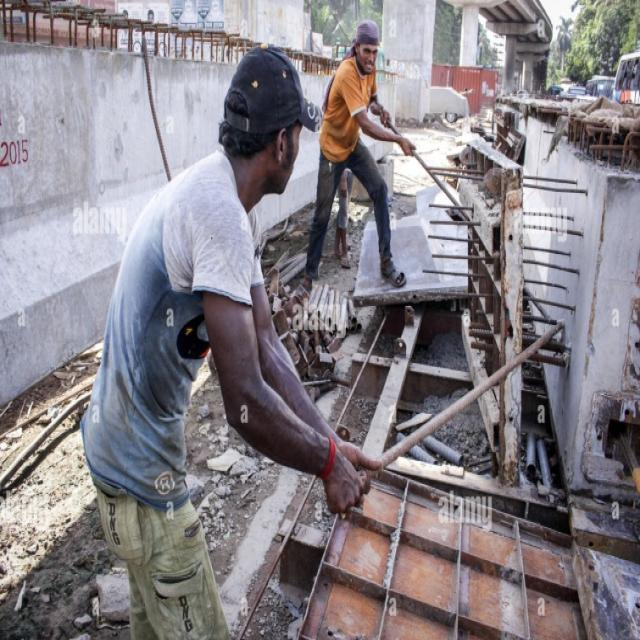no-boots: (372, 225, 426, 312), (298, 224, 329, 330)
no-gloves: (272, 349, 382, 561), (380, 114, 426, 164)
no-helmet: (146, 44, 324, 214), (351, 15, 390, 62)
no-vest: (95, 150, 328, 554)
person: (59, 36, 382, 635), (298, 10, 432, 326)
